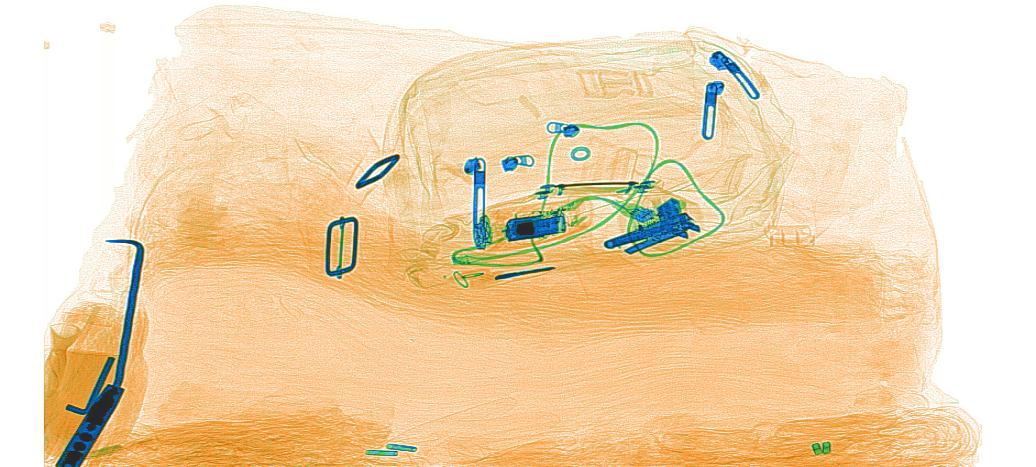battery: (520, 214, 566, 238)
